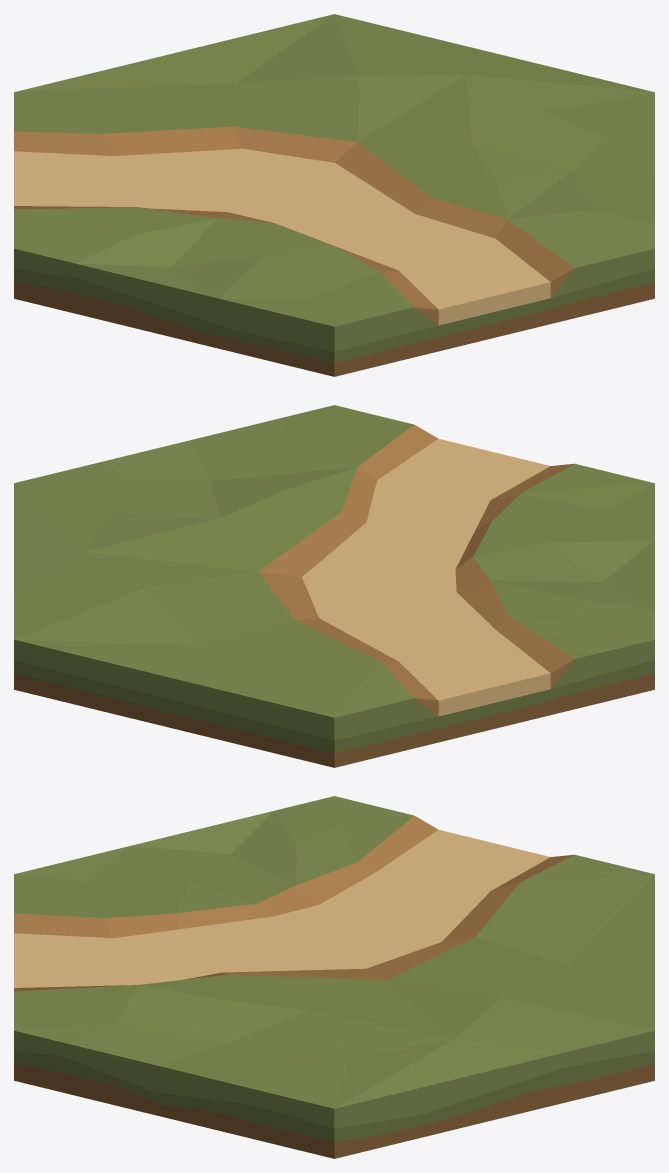
Rendered from SM_Tile_Hex_Path_02.glb.
3 renders of one model, top to bottom at view 1: azimuth 30°, elevation 25°; view 2: azimuth 150°, elevation 25°; view 3: azimuth 270°, elevation 25°, orthographic.
Parts seen in each view (by area): view 1: SM_Tile_Hex_Path_02; view 2: SM_Tile_Hex_Path_02; view 3: SM_Tile_Hex_Path_02.
Boxes of the visible parts, x1=… form: SM_Tile_Hex_Path_02: x1=14, y1=14, x2=654, y2=376; SM_Tile_Hex_Path_02: x1=14, y1=405, x2=654, y2=767; SM_Tile_Hex_Path_02: x1=14, y1=796, x2=654, y2=1158.
Size of the model in its own units: 5.77 by 0.4915 by 5.
Materials: 1 (1 with a texture image).
